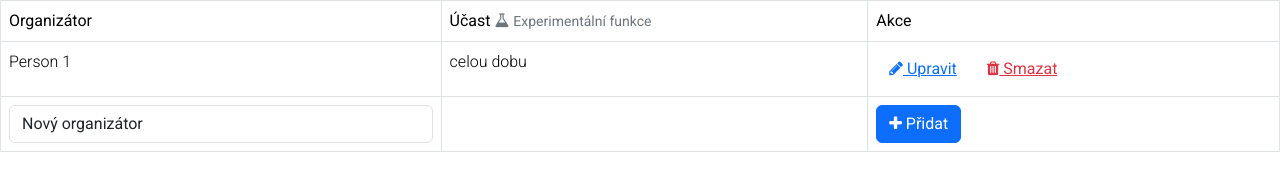
Scenario: People › remove person
The width and height of the screenshot is (1280, 169).
Click the button "Smazat" at [1023, 69], box [974,50,1071,88]
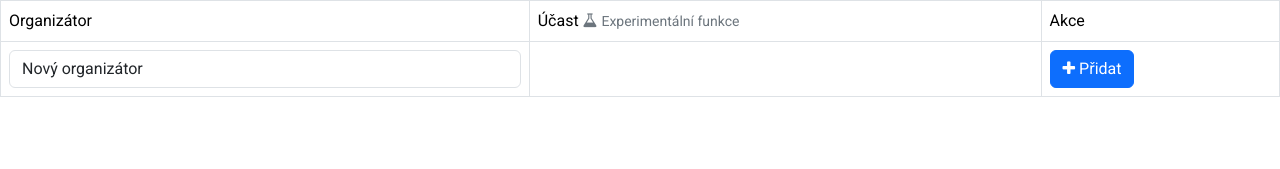
Expected: the text "Person 1" is gone
